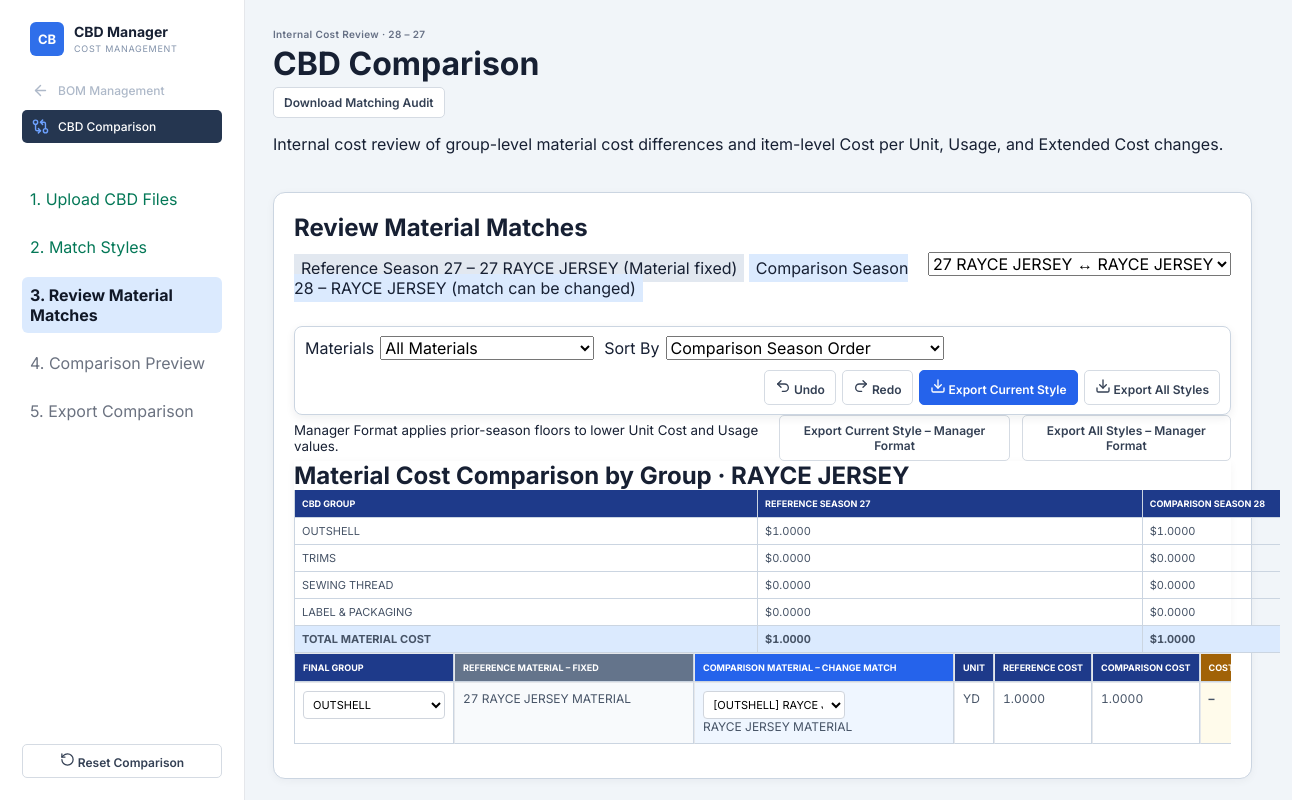
Scenario: CBD Comparison navigation and controls › keeps both exports with Undo and Redo in the sticky toolbar and preview
expect the heading "CBD Comparison" is shown: met, box 273,44 -> 539,83
expect the element "Export Current Style" is shown: met, box 294,326 -> 1231,415
Click the button "4. Comparison Preview".
click(122, 363)  # box 22,345 -> 222,381
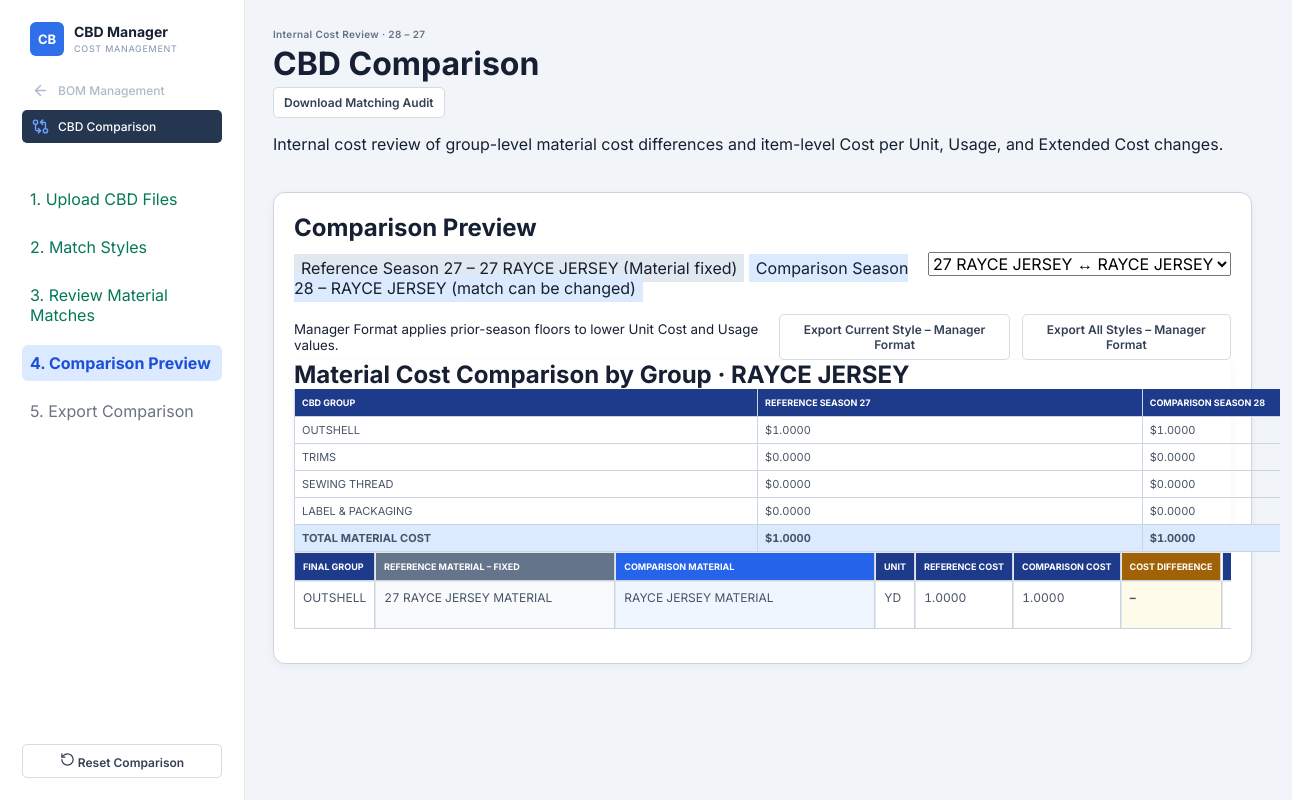
expect the heading "Comparison Preview" is shown: met, box 294,213 -> 537,242
Click the button "5. Export Comparison".
click(122, 411)  # box 22,393 -> 222,429
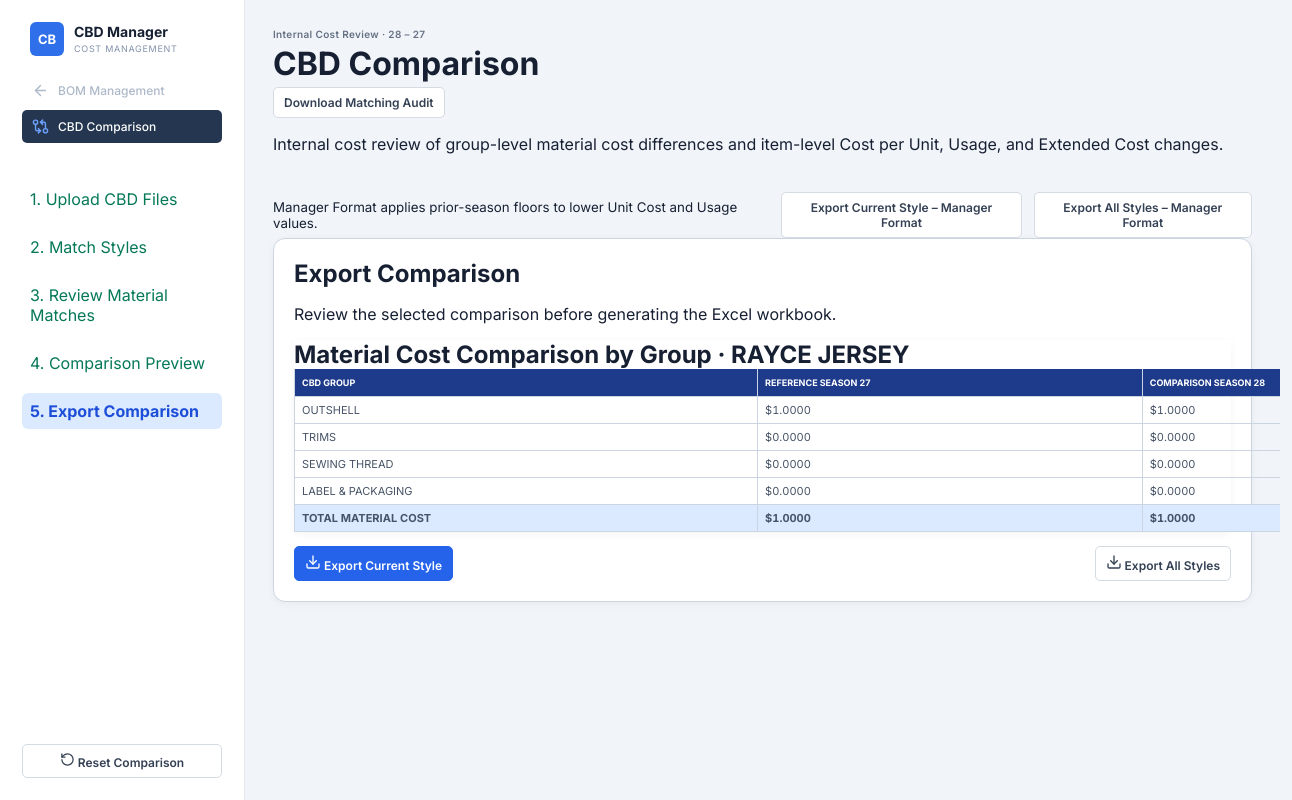
expect the text "Review the selected comparison before generating the Excel workbook." is shown: met, box 294,304 -> 836,324
expect the button "Export Current Style" is shown: met, box 294,546 -> 453,581
expect the button "Export All Styles" is shown: met, box 1095,546 -> 1231,581
